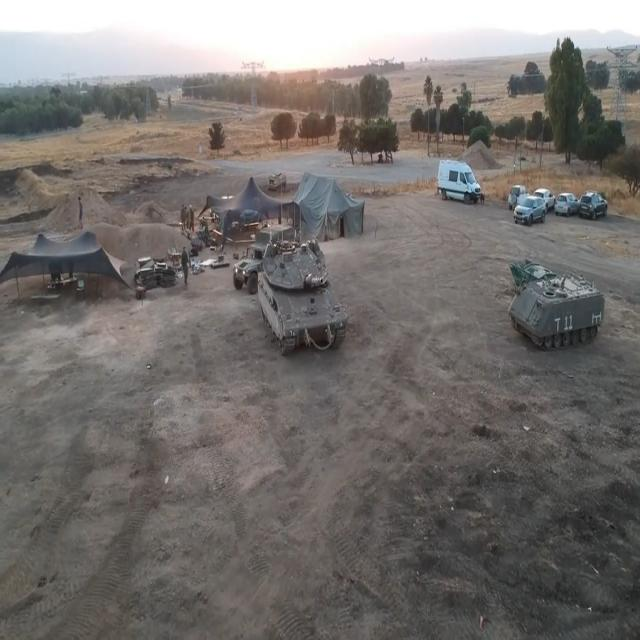tank: (260, 243, 353, 355)
